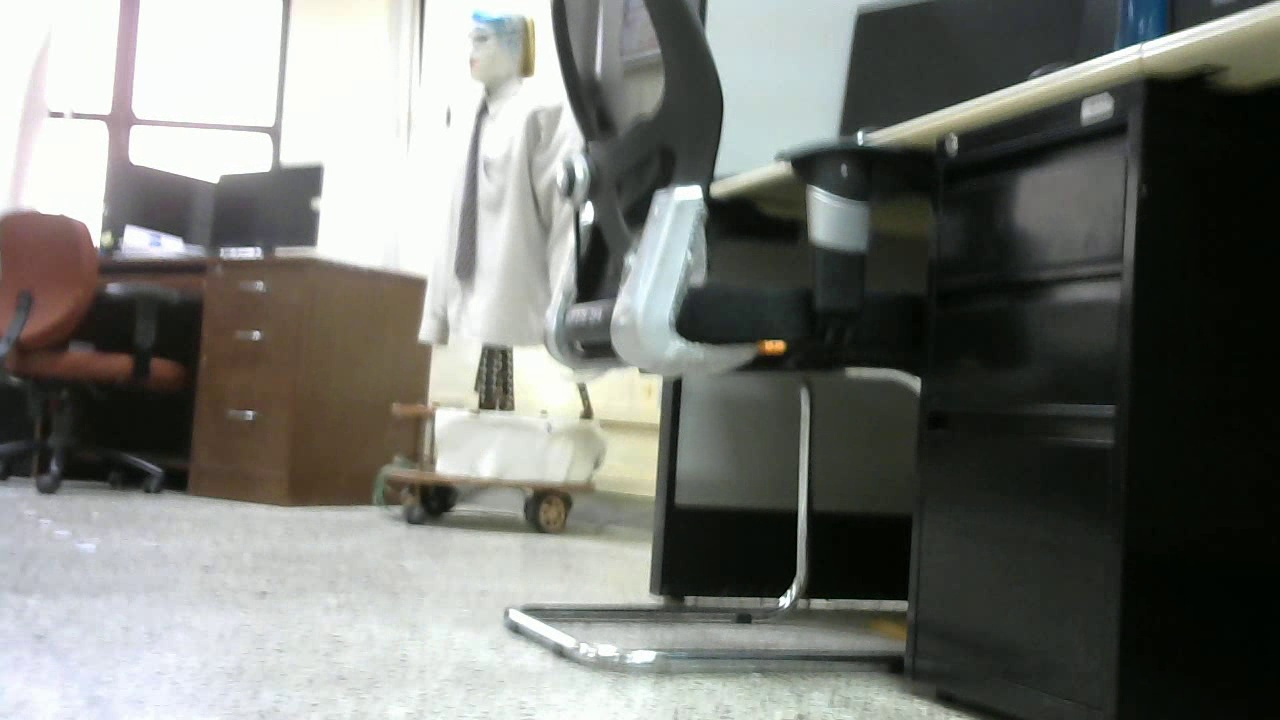chair: (543, 2, 935, 678), (1, 207, 190, 499)
